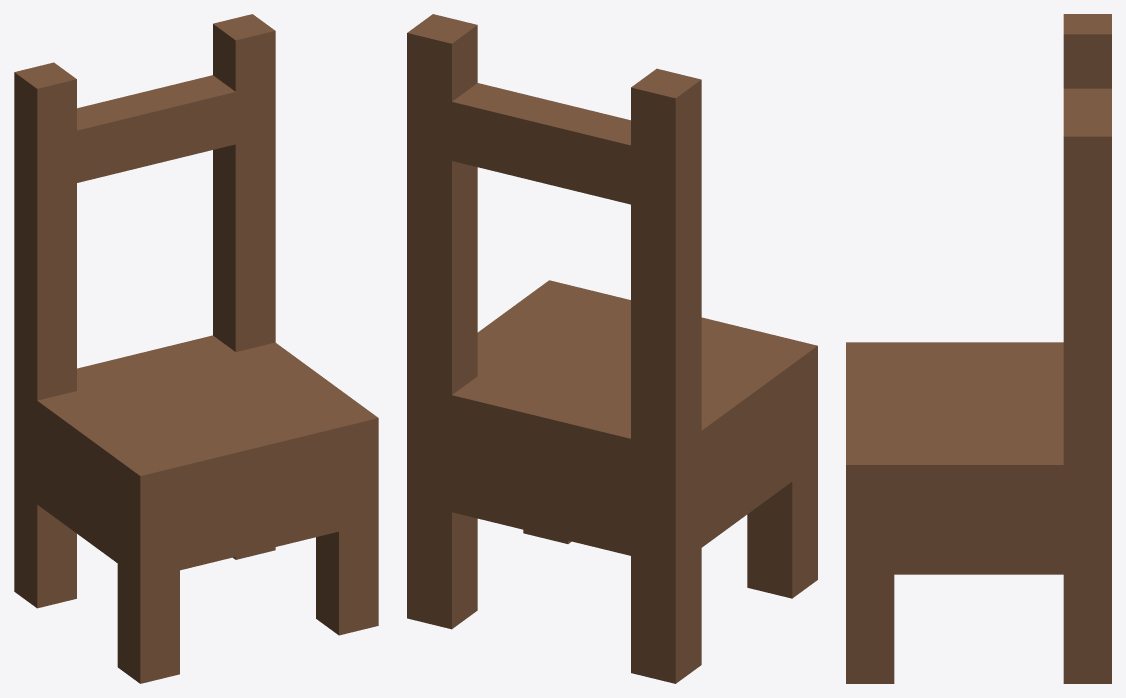
File: stoel.glb
3 views of the same model, side by side, from view 1: azimuth 30°, elevation 25°; view 2: azimuth 150°, elevation 25°; view 3: azimuth 270°, elevation 25° (orthographic). The views are drawn at different scales.
Parts seen in each view (by area): view 1: Cube.002; view 2: Cube.002; view 3: Cube.002.
Boxes of the visible parts, x1=… form: Cube.002: x1=14, y1=14, x2=378, y2=683; Cube.002: x1=407, y1=14, x2=817, y2=683; Cube.002: x1=846, y1=14, x2=1111, y2=683.
Size of the model in its own units: 2.4 by 5 by 2.2.
